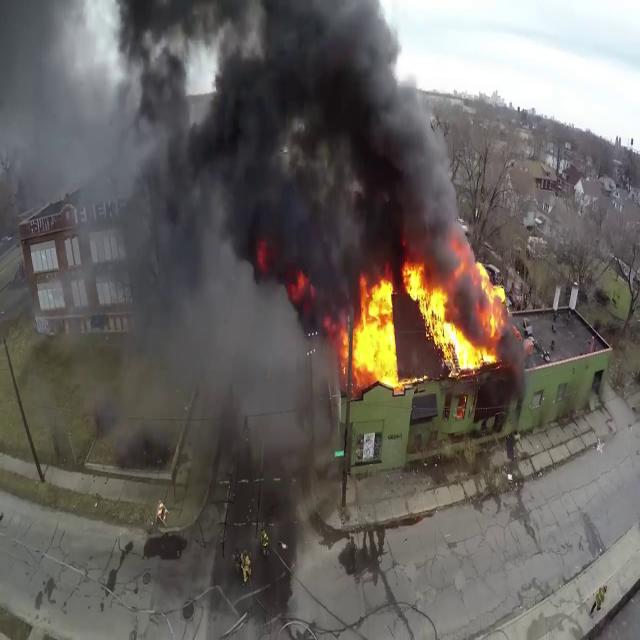Fire: (344, 242, 511, 386)
Smoke: (144, 0, 464, 268), (106, 248, 347, 491), (0, 0, 169, 237)
